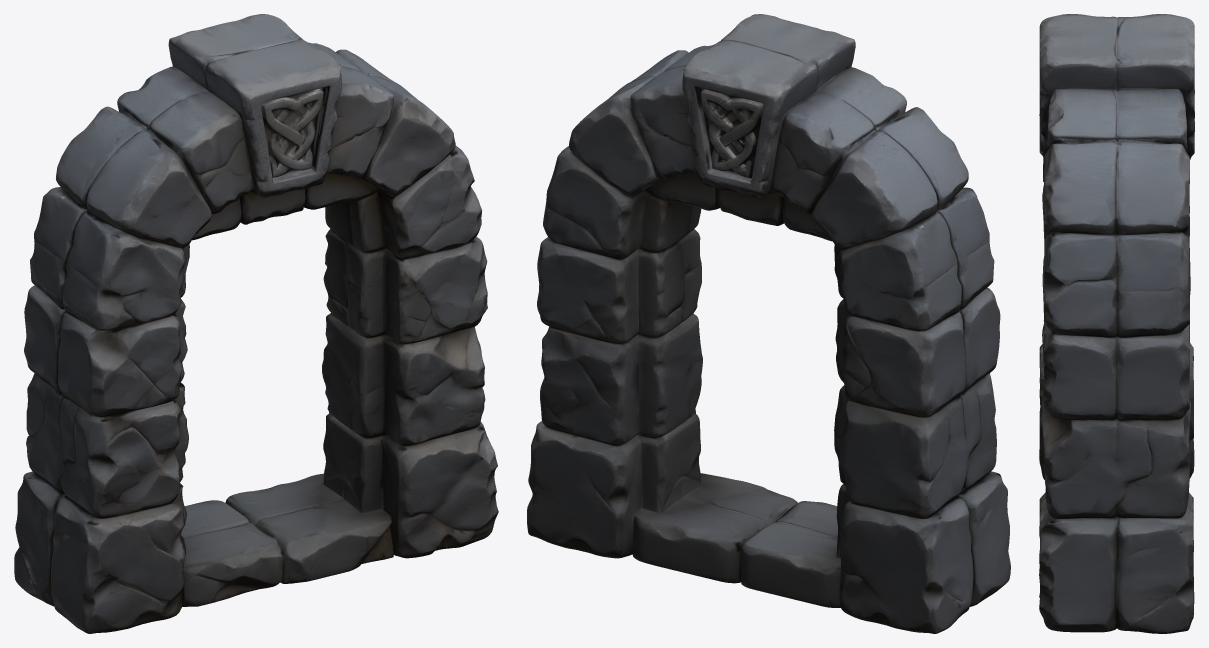
Rendered from arc_1024.glb.
The picture shows the model from 3 angles, left to right: view 1: azimuth 30°, elevation 25°; view 2: azimuth 150°, elevation 25°; view 3: azimuth 270°, elevation 25°; orthographic projection. The views are drawn at different scales.
Visible parts, largest first — view 1: node_0; view 2: node_0; view 3: node_0.
Part boxes in pixels (box(x1,y1,x2,y2)): node_0: box(14, 14, 498, 633); node_0: box(527, 14, 1010, 633); node_0: box(1039, 14, 1194, 633).
Size of the model in its own units: 0.7776 by 0.9099 by 0.2573.
Materials: 1 (1 with a texture image).
